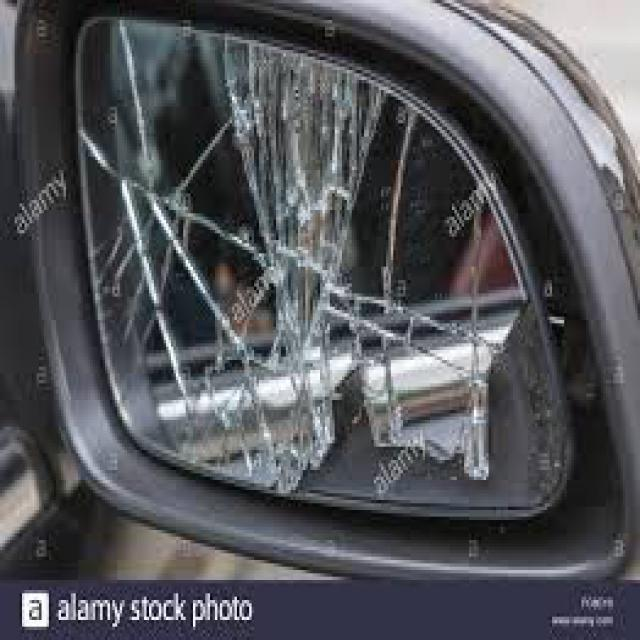Sidemirror-Damage: (24, 0, 638, 604)
